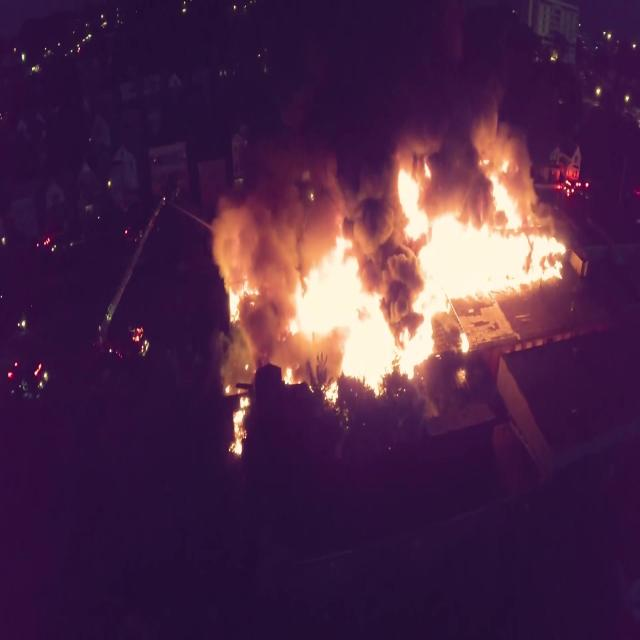Fire: (308, 203, 562, 381), (228, 280, 255, 315)
Smoke: (228, 6, 546, 198), (204, 210, 298, 366), (346, 172, 420, 336)
